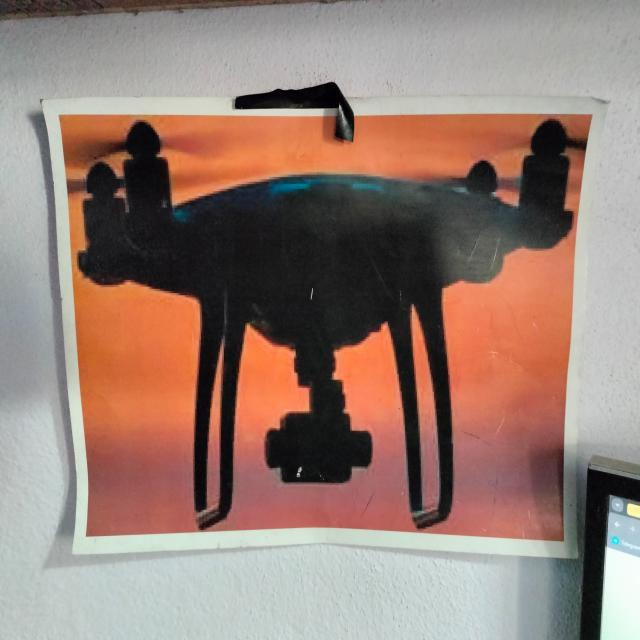drone: (75, 116, 577, 517)
